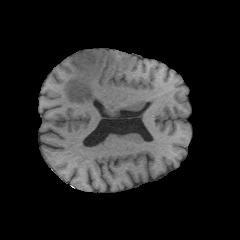glioma: (64, 49, 106, 104)
